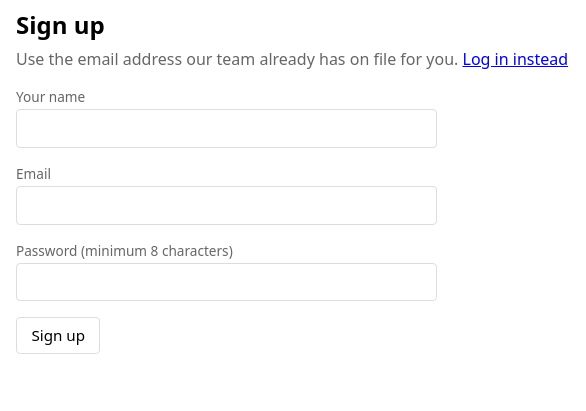
Test: PortalSignupPage › shows the 409 'already registered' message
This screenshot has width=586, height=411.
Type "New Owner" into the field labelled "Your name". click: (227, 129)
box: [16,109,437,148]
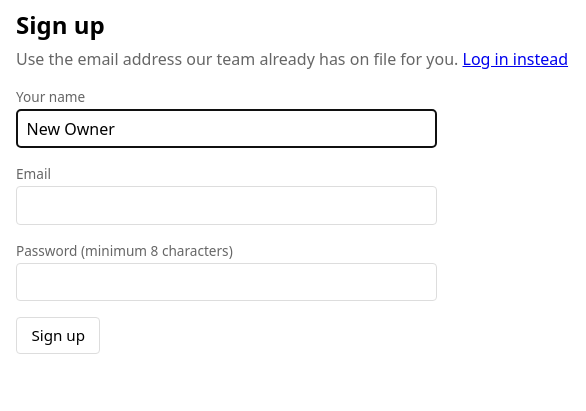
Type "owner@example.com" into the field labelled "Email". click: (227, 205)
box: [16,186,437,225]
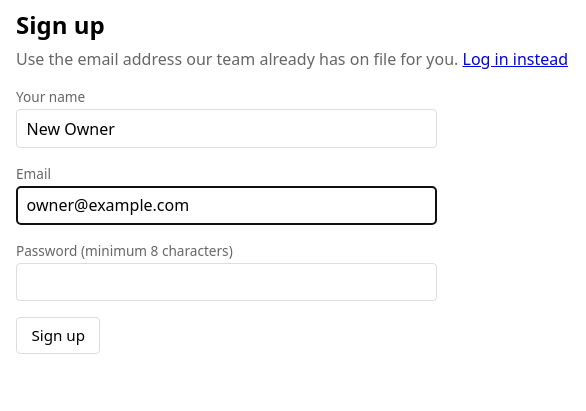
Type "hunter2pass" into the password field labelled "Password (minimum 8 characters)". click: (227, 282)
box: [16,263,437,301]
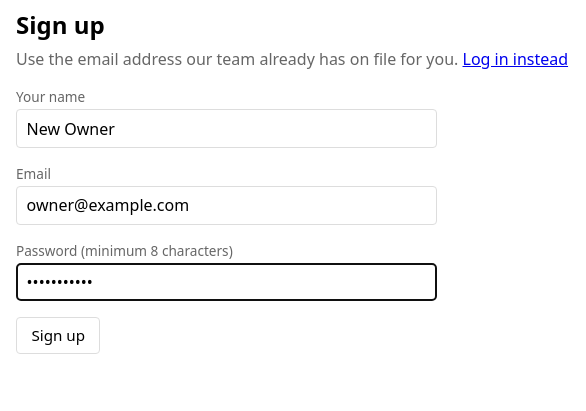
Click the button "Sign up". click: (58, 336)
box: [16,317,100,354]
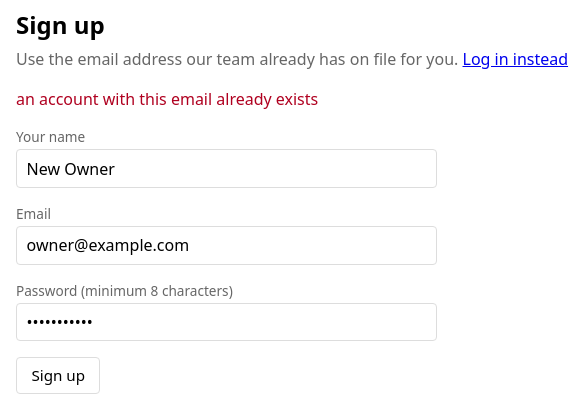
Expected: the message reads "an account with this email already exists", [16,88,318,110]
